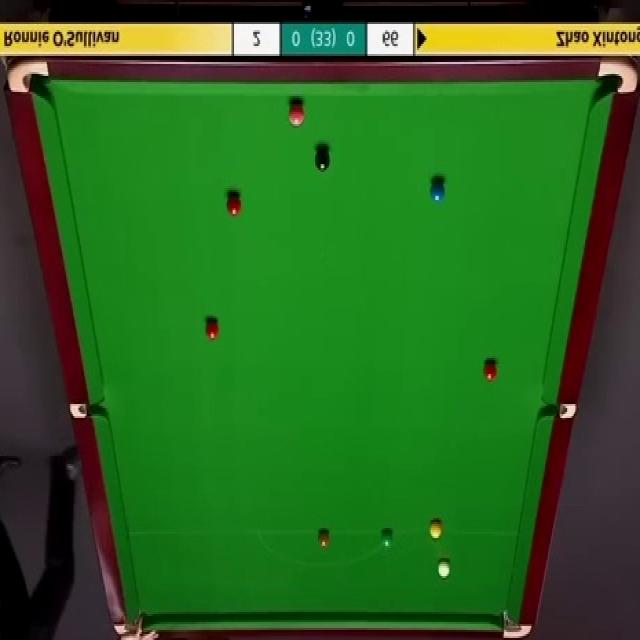pocket: (597, 56, 640, 98), (7, 60, 49, 95), (499, 608, 530, 640), (539, 400, 576, 422), (116, 605, 146, 632), (67, 405, 105, 420)
